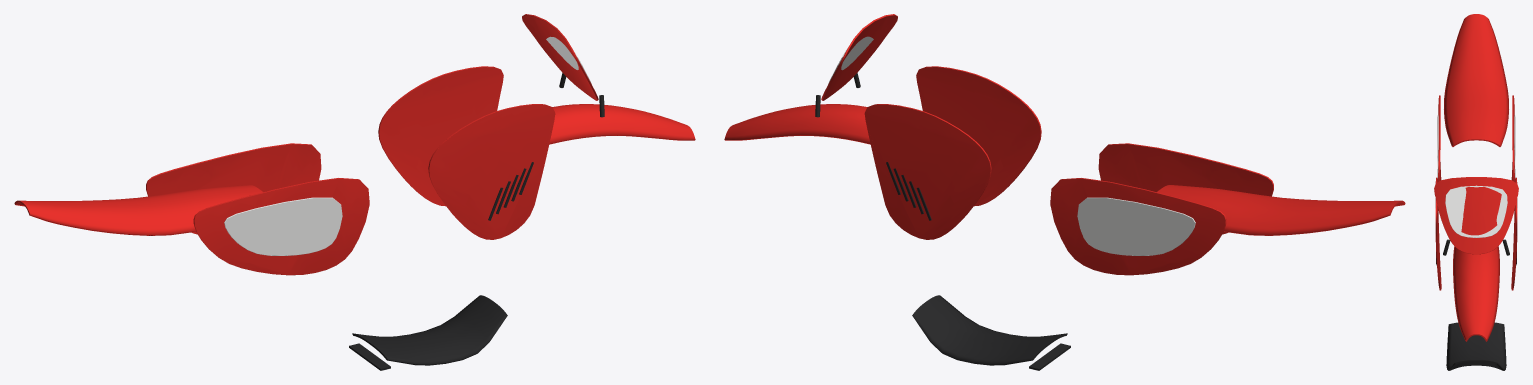
The model's file is bike_mx_2t__bodywork.glb.
3 views of the same model, side by side, from view 1: azimuth 30°, elevation 25°; view 2: azimuth 150°, elevation 25°; view 3: azimuth 270°, elevation 25° (orthographic). The views are drawn at different scales.
Visible parts, largest first — view 1: frame_body__radiator_shrouds__left, frame_body__radiator_shrouds__right, frame_body__side_panels__left, frame_body__rear_mudguard, frame_body__side_panels__right, frame_body__skid_plate, frame_body__side_panels__number_backgrounds, frame_body__front_mudguard, frame_body__number_plate, frame_body__radiator_shrouds__louvres; view 2: frame_body__radiator_shrouds__right, frame_body__radiator_shrouds__left, frame_body__side_panels__right, frame_body__rear_mudguard, frame_body__side_panels__left, frame_body__skid_plate, frame_body__side_panels__number_backgrounds, frame_body__front_mudguard, frame_body__number_plate, frame_body__radiator_shrouds__louvres; view 3: frame_body__rear_mudguard, frame_body__number_plate, frame_body__front_mudguard, frame_body__skid_plate, frame_body__number_plate__background, frame_body__radiator_shrouds__right, frame_body__radiator_shrouds__left, frame_body__side_panels__left, frame_body__side_panels__right, frame_body__side_panels__number_backgrounds, frame_body__number_plate__straps.
Boxes of the visible parts, box(x1,y1,x2,y2) form: frame_body__radiator_shrouds__left: box(428, 104, 555, 239); frame_body__radiator_shrouds__right: box(378, 66, 503, 206); frame_body__side_panels__left: box(193, 178, 369, 275); frame_body__rear_mudguard: box(14, 185, 262, 235); frame_body__side_panels__right: box(146, 143, 321, 234); frame_body__skid_plate: box(349, 295, 507, 370); frame_body__side_panels__number_backgrounds: box(224, 197, 342, 255); frame_body__front_mudguard: box(549, 104, 695, 144); frame_body__number_plate: box(522, 14, 598, 100); frame_body__radiator_shrouds__louvres: box(488, 162, 533, 220); frame_body__radiator_shrouds__right: box(864, 104, 991, 239); frame_body__radiator_shrouds__left: box(916, 66, 1041, 206); frame_body__side_panels__right: box(1050, 178, 1226, 275); frame_body__rear_mudguard: box(1157, 185, 1405, 235); frame_body__side_panels__left: box(1098, 143, 1273, 234); frame_body__skid_plate: box(912, 295, 1070, 370); frame_body__side_panels__number_backgrounds: box(1077, 197, 1195, 255); frame_body__front_mudguard: box(724, 104, 870, 144); frame_body__number_plate: box(821, 14, 897, 100); frame_body__radiator_shrouds__louvres: box(886, 162, 931, 220); frame_body__rear_mudguard: box(1444, 14, 1508, 146); frame_body__number_plate: box(1434, 177, 1518, 254); frame_body__front_mudguard: box(1453, 246, 1499, 341); frame_body__skid_plate: box(1446, 322, 1506, 370); frame_body__number_plate__background: box(1445, 185, 1507, 237); frame_body__radiator_shrouds__right: box(1511, 177, 1517, 290); frame_body__radiator_shrouds__left: box(1435, 177, 1441, 290); frame_body__side_panels__left: box(1438, 95, 1441, 181); frame_body__side_panels__right: box(1511, 95, 1514, 181); frame_body__side_panels__number_backgrounds: box(1437, 115, 1515, 178); frame_body__number_plate__straps: box(1443, 239, 1509, 255).
Size of the model in its own units: 193 by 82.25 by 27.39.
